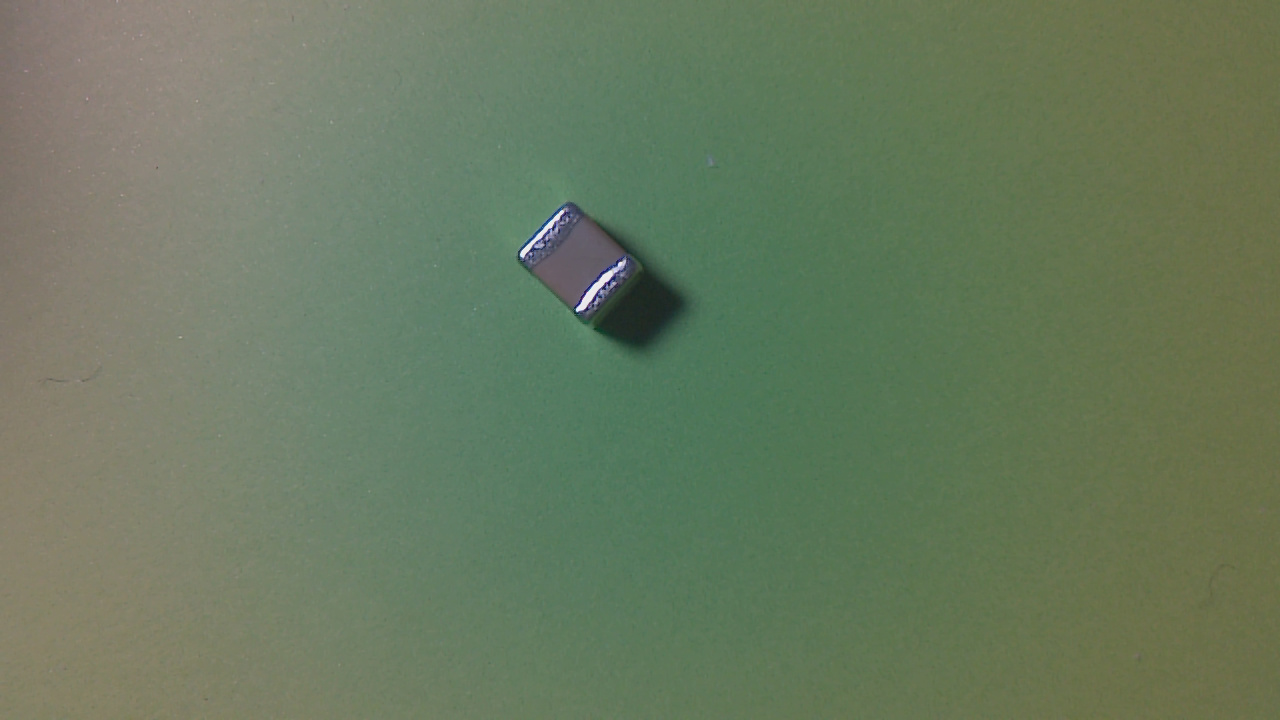Condensator: (520, 205, 651, 332)
